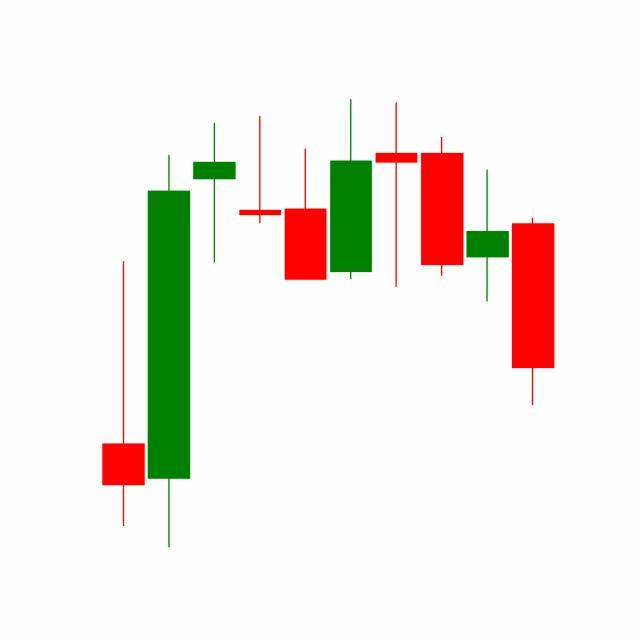Hikkake Pattern: (283, 99, 512, 306)
